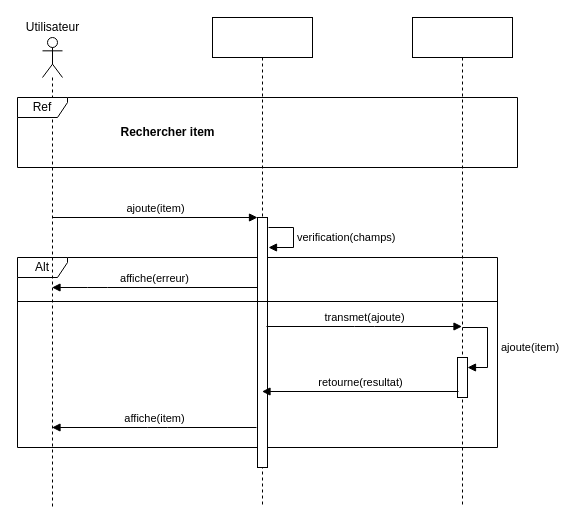
This 577x525 diagram has some shape labels left out. The shapes that lost their labels are listed below. From the top down, each one's box as (x1, y1, x2, y2) in pixels, then its label:
(212, 16, 312, 508): :App
(412, 16, 512, 508): :Database
